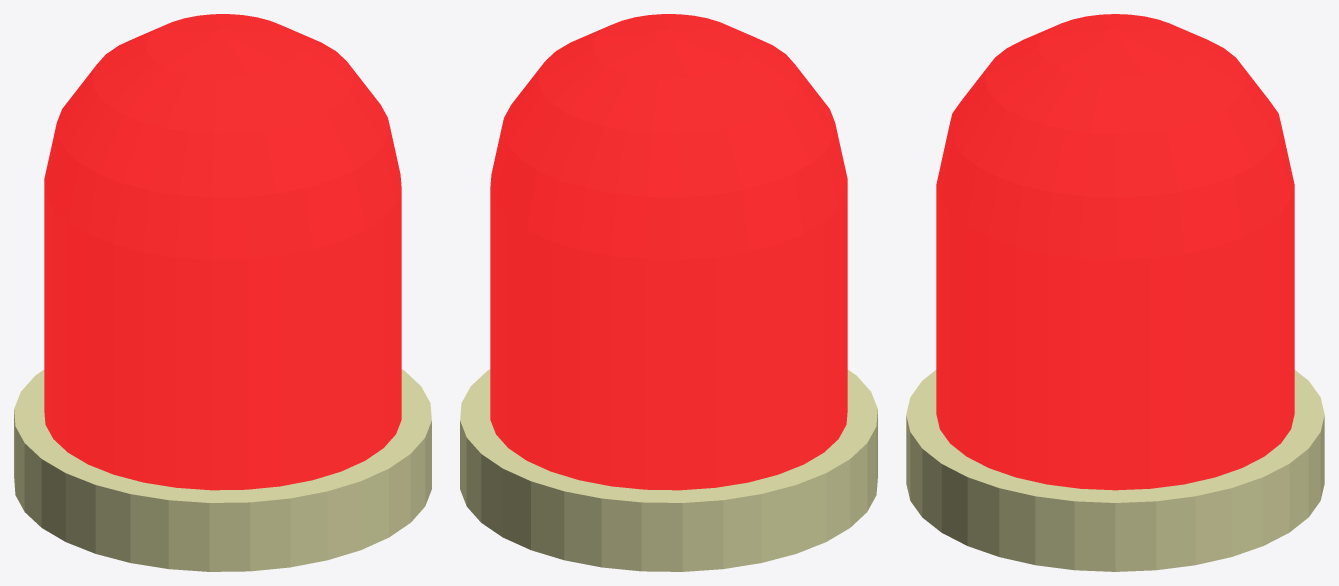
File: led.glb
3 views of the same model, side by side, from view 1: azimuth 30°, elevation 25°; view 2: azimuth 150°, elevation 25°; view 3: azimuth 270°, elevation 25° (orthographic).
Parts seen in each view (by area): view 1: Circle; view 2: Circle; view 3: Circle.
Part boxes in pixels (box(x1,y1,x2,y2)): Circle: box(14, 14, 431, 571); Circle: box(460, 14, 877, 571); Circle: box(906, 14, 1324, 571).
Size of the model in its own units: 2 by 2.36 by 2.
